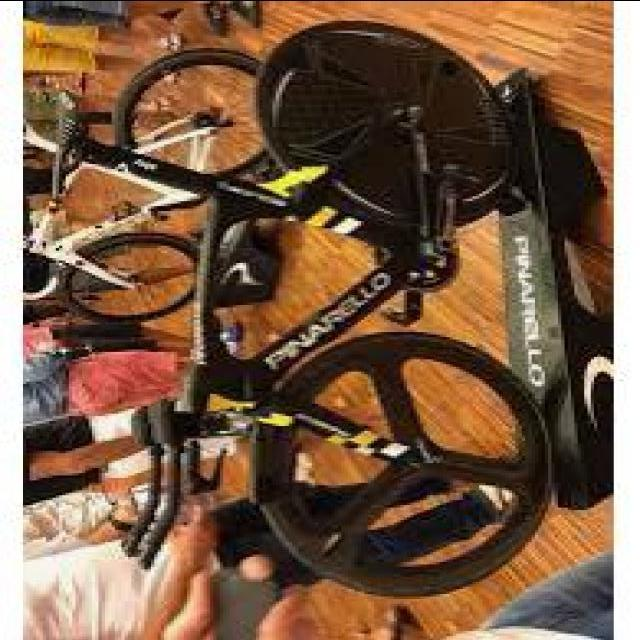bicycle: (132, 21, 510, 579)
